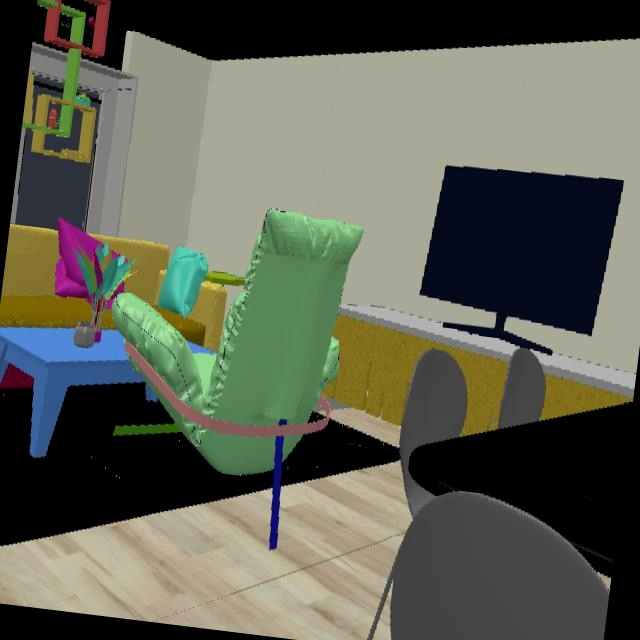chair: (389, 349, 610, 640), (497, 348, 544, 428)
monitor: (420, 165, 624, 336)
pillow: (53, 217, 134, 348), (156, 244, 209, 320)
sofa: (110, 210, 364, 496), (88, 234, 228, 352), (0, 224, 91, 330)
table: (406, 403, 632, 580), (0, 327, 144, 463)
